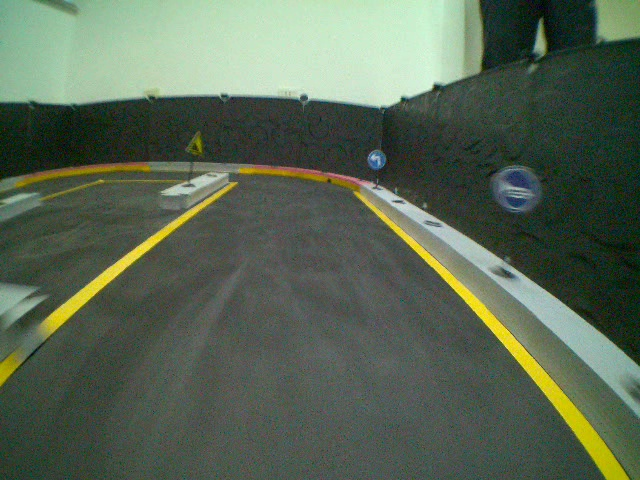fast: (184, 128, 206, 155)
horn: (491, 164, 542, 214)
turn: (367, 147, 386, 168)
